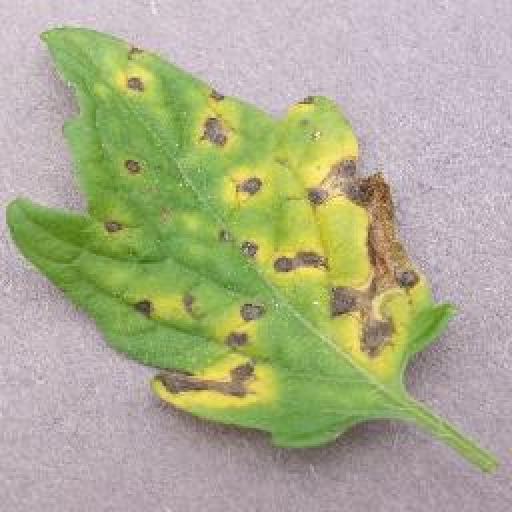Septoria: (9, 22, 448, 454)
